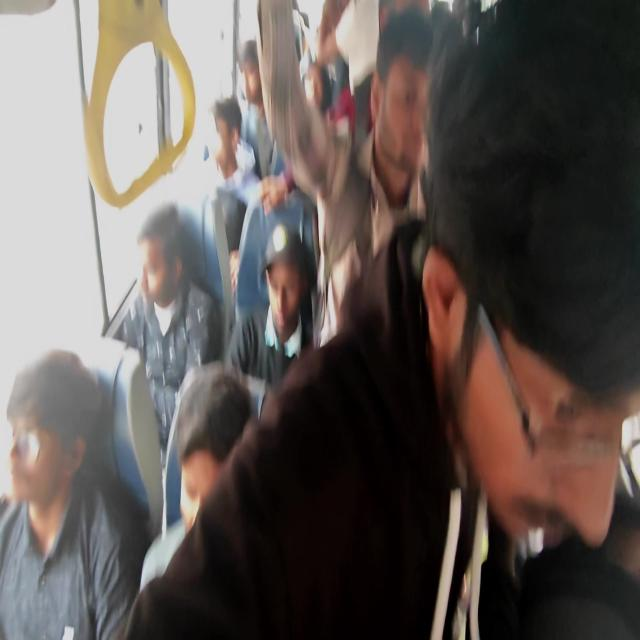person: (429, 84, 640, 532), (6, 344, 130, 604), (168, 422, 286, 564), (117, 223, 213, 339), (282, 59, 356, 179), (203, 115, 284, 193), (278, 204, 311, 333), (376, 44, 415, 132), (244, 56, 268, 112)
